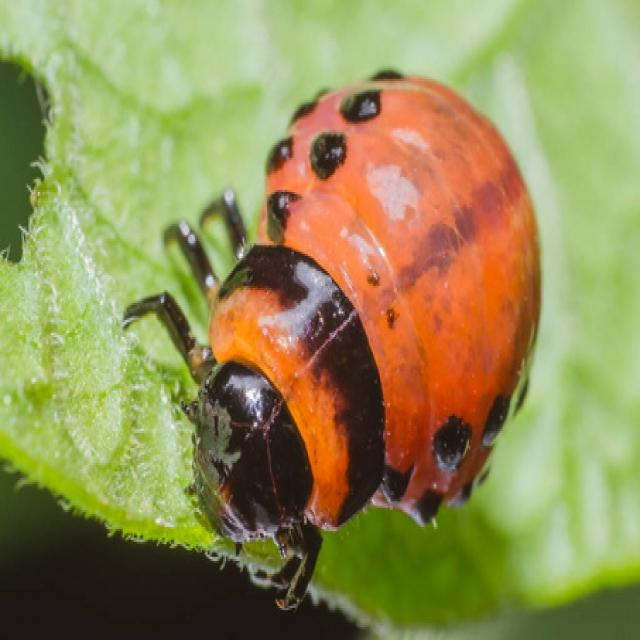ShuCaiHuaBanChong-Larva-: (162, 54, 618, 628)
